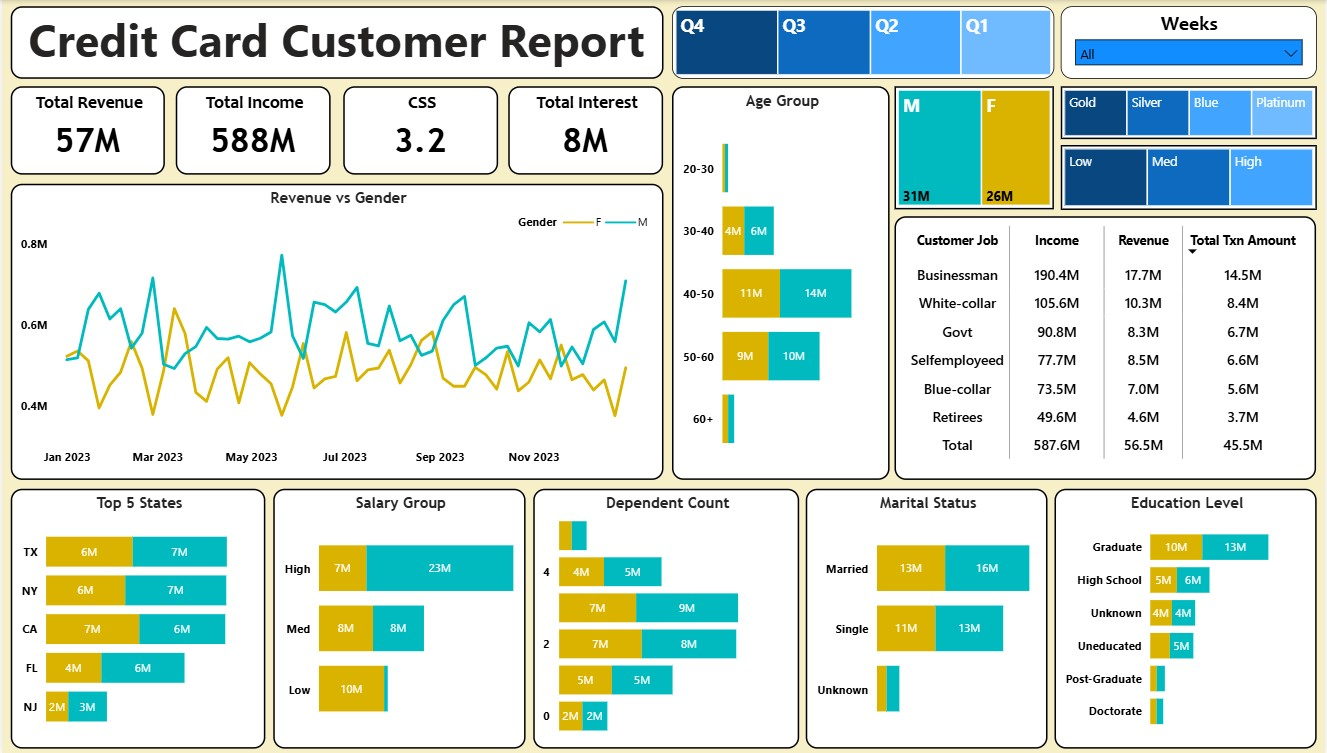

This screenshot's page, from the dashboard's own definition file:
{"tool":"powerbi","page":{"name":"Credit Card Customer","canvas":[1400,800],"ordinal":1},"visuals":[{"type":"barChart","title":"Salary Group","fields":{"Y":["Sum(public cc_detail.Revenue)"],"Category":["public cust_detail.Income_Group"],"Series":["public cust_detail.gender"]},"box":[287.1,517.8,266.9,275],"z":0},{"type":"tableEx","fields":{"Values":["public cust_detail.customer_job","Sum(public cust_detail.income)","Sum(public cc_detail.Revenue)","Sum(public cc_detail.total_trans_amt)"]},"box":[945.7,229.4,446.7,279],"z":1000},{"type":"card","title":"Total Revenue","fields":{"Values":["Sum(public cc_detail.Revenue)"]},"box":[9.4,91.2,163,93.9],"z":2000},{"type":"card","title":"Total Income","fields":{"Values":["Sum(public cust_detail.income)"]},"box":[183.8,91.2,163.7,93.9],"z":3000},{"type":"card","title":"CSS","fields":{"Values":["Avg(public cust_detail.cust_satisfaction_score)"]},"box":[360.8,91.2,163.7,93.9],"z":4000},{"type":"card","title":"Total Interest","fields":{"Values":["Sum(public cc_detail.interest_earned)"]},"box":[536.6,91.2,163.7,93.9],"z":5000},{"type":"slicer","title":"Weeks","fields":{"Values":["public cc_detail.week_start_date"]},"box":[1121.4,6.7,271,76.5],"z":6000},{"type":"treemap","fields":{"Group":["public cc_detail.qtr"],"Values":["Avg(public cc_detail.client_num)"]},"box":[709.6,6.7,405.1,76.5],"z":7000},{"type":"treemap","fields":{"Group":["public cc_detail.card_category"],"Values":["Avg(public cc_detail.client_num)"]},"box":[1121.4,91.2,271,56.3],"z":8000},{"type":"textbox","box":[9.4,6.7,690.8,76.5],"z":9000},{"type":"lineChart","title":"Revenue vs Gender","fields":{"Y":["Sum(public cc_detail.Revenue)"],"Series":["public cust_detail.gender"],"Category":["public cc_detail.week_start_date.Variation.Date Hierarchy.Year","public cc_detail.week_start_date.Variation.Date Hierarchy.Quarter","public cc_detail.week_start_date.Variation.Date Hierarchy.Month","public cc_detail.week_start_date.Variation.Date Hierarchy.Day"]},"box":[9.4,194.5,690.8,313.9],"z":10000},{"type":"treemap","fields":{"Group":["public cust_detail.gender"],"Values":["Sum(public cc_detail.Revenue)"]},"box":[945.7,91.2,169,130.1],"z":11000},{"type":"barChart","title":"Age Group","fields":{"Y":["Sum(public cc_detail.Revenue)"],"Category":["public cust_detail.Age_Group"],"Series":["public cust_detail.gender"]},"box":[709.6,91.2,230.7,417.2],"z":12000},{"type":"barChart","title":"Dependent Count","fields":{"Y":["Sum(public cc_detail.Revenue)"],"Category":["public cust_detail.dependent_count"],"Series":["public cust_detail.gender"]},"box":[562,517.8,281.7,275],"z":13000},{"type":"barChart","title":"Education Level","fields":{"Y":["Sum(public cc_detail.Revenue)"],"Category":["public cust_detail.education_level"],"Series":["public cust_detail.gender"]},"box":[1114.7,517.8,277.7,275],"z":14000},{"type":"barChart","title":"Top 5 States","fields":{"Y":["Sum(public cc_detail.Revenue)"],"Category":["public cust_detail.state_cd"],"Series":["public cust_detail.gender"]},"box":[9.4,517.8,269.6,275],"z":15000},{"type":"barChart","title":"Marital Status","fields":{"Y":["Sum(public cc_detail.Revenue)"],"Category":["public cust_detail.marital_status"],"Series":["public cust_detail.gender"]},"box":[850.4,517.8,256.2,275],"z":16000},{"type":"treemap","fields":{"Group":["public cust_detail.Income_Group"],"Values":["Avg(public cc_detail.client_num)"]},"box":[1121.4,152.9,271,68.4],"z":17000}]}

Visuals, with their boxes in screenshot pixels (x1, y1, x2, y2), scaled from the page's 1400x800 canvas onto the 1327x753 screenshot:
"Salary Group" barChart: 272 487 525 746
tableEx - public cust_detail.customer_job x Sum(public cust_detail.income): 896 216 1320 479
"Total Revenue" card: 9 86 163 174
"Total Income" card: 174 86 329 174
"CSS" card: 342 86 497 174
"Total Interest" card: 509 86 664 174
"Weeks" slicer: 1063 6 1320 78
treemap - public cc_detail.qtr x Avg(public cc_detail.client_num): 673 6 1057 78
treemap - public cc_detail.card_category x Avg(public cc_detail.client_num): 1063 86 1320 139
textbox: 9 6 664 78
"Revenue vs Gender" lineChart: 9 183 664 479
treemap - public cust_detail.gender x Sum(public cc_detail.Revenue): 896 86 1057 208
"Age Group" barChart: 673 86 891 479
"Dependent Count" barChart: 533 487 800 746
"Education Level" barChart: 1057 487 1320 746
"Top 5 States" barChart: 9 487 264 746
"Marital Status" barChart: 806 487 1049 746
treemap - public cust_detail.Income_Group x Avg(public cc_detail.client_num): 1063 144 1320 208
